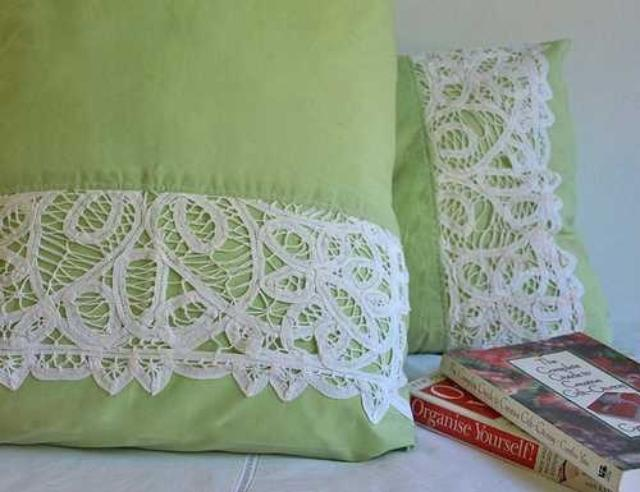pillow: (396, 38, 608, 354)
